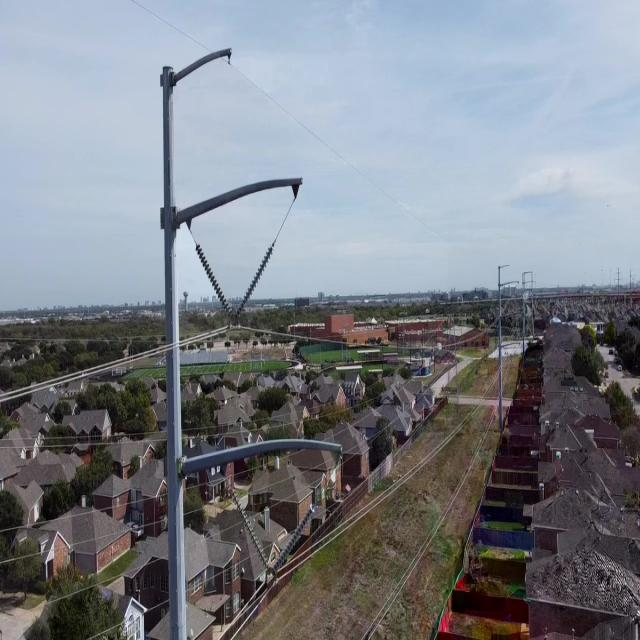正常绝缘子: (221, 472, 278, 587), (262, 490, 327, 590), (225, 228, 282, 337), (189, 234, 239, 331)
